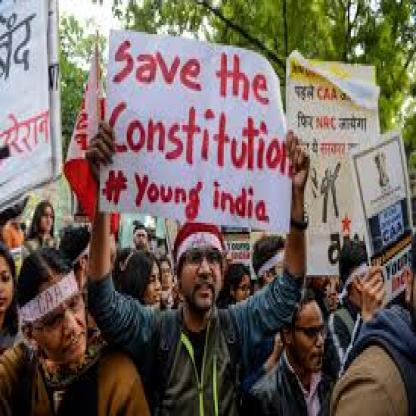BANNER: (86, 30, 413, 284)
